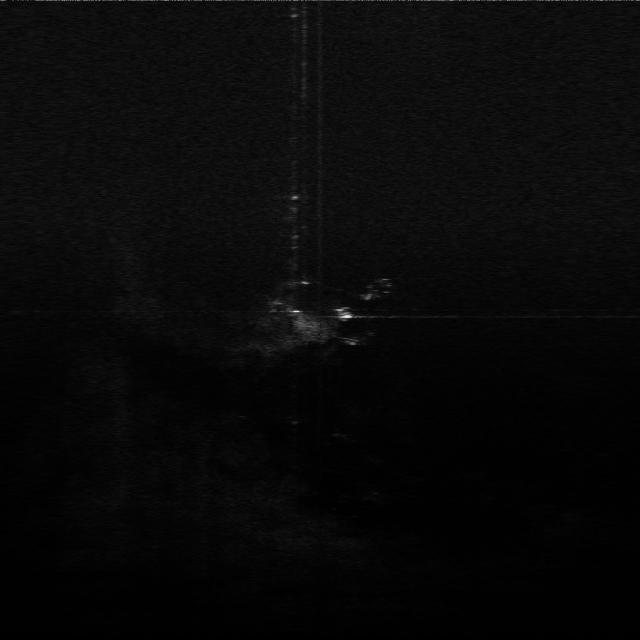rov: (331, 305, 357, 320)
